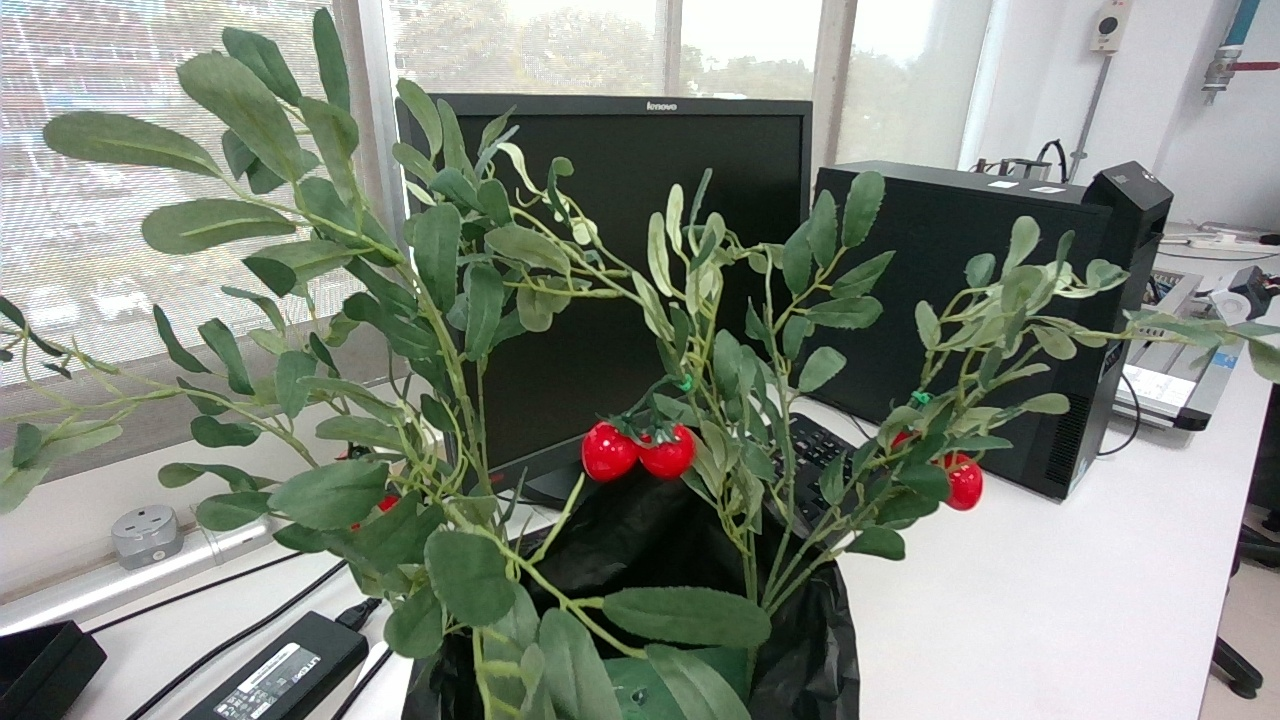peduncle: (646, 374, 675, 396)
strawberry: (582, 421, 639, 481), (637, 424, 696, 480), (945, 452, 985, 510), (378, 495, 400, 512)
